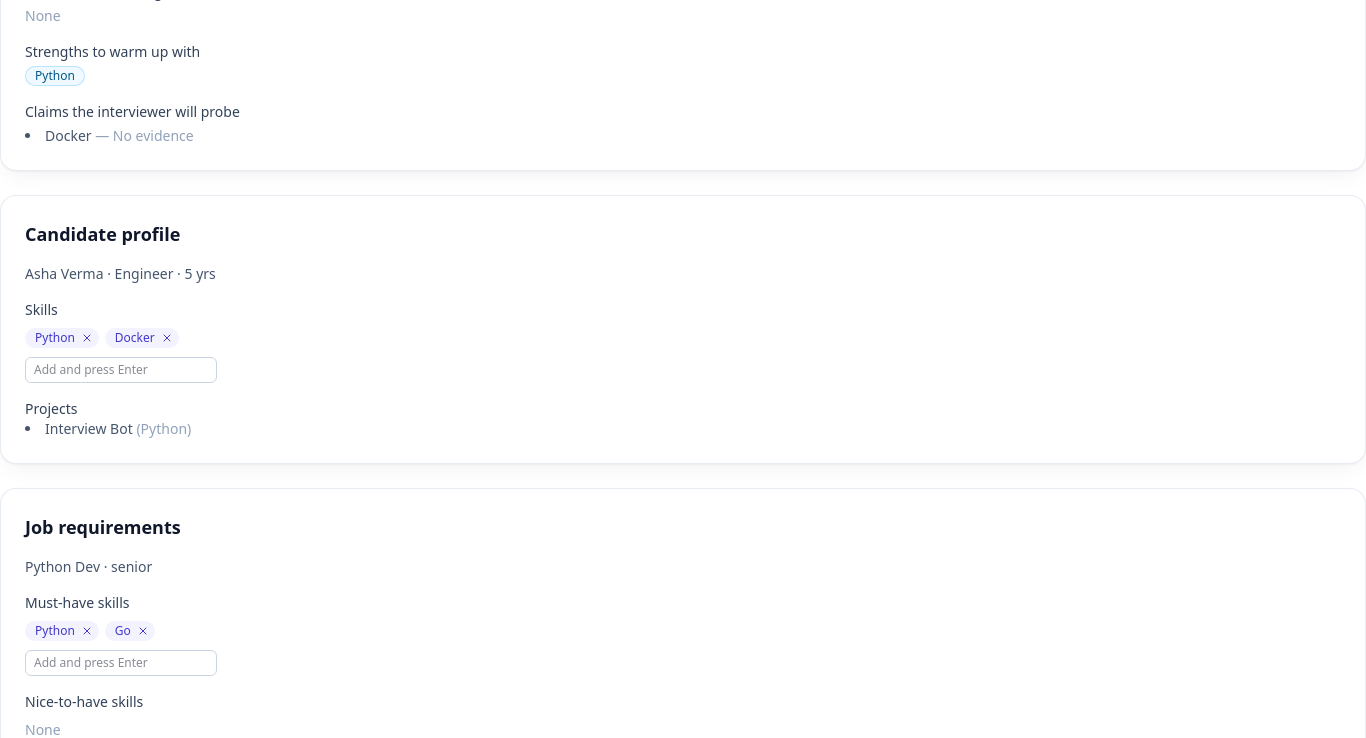
Test: Analysis page › adds a skill with Enter
This screenshot has width=1366, height=738.
(page scrolled)
Type "Redis" into the field named "Add to Skills".
click(121, 370); type("Redis")  # box [25,357,217,383]
Then press Enter
(page scrolled)
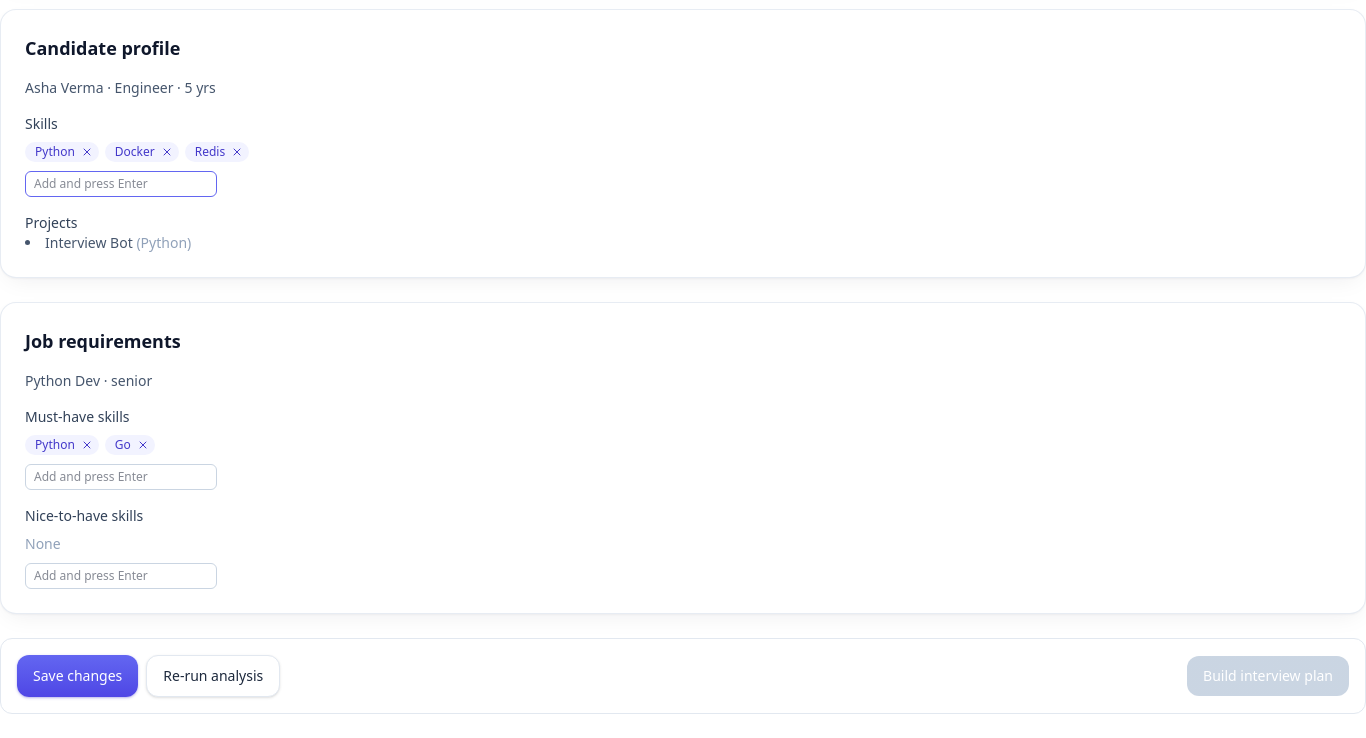
Expected: the list item "Redis" is shown, [185,142,249,162]
Expected: the button "Save changes" is enabled, [17,655,138,697]
